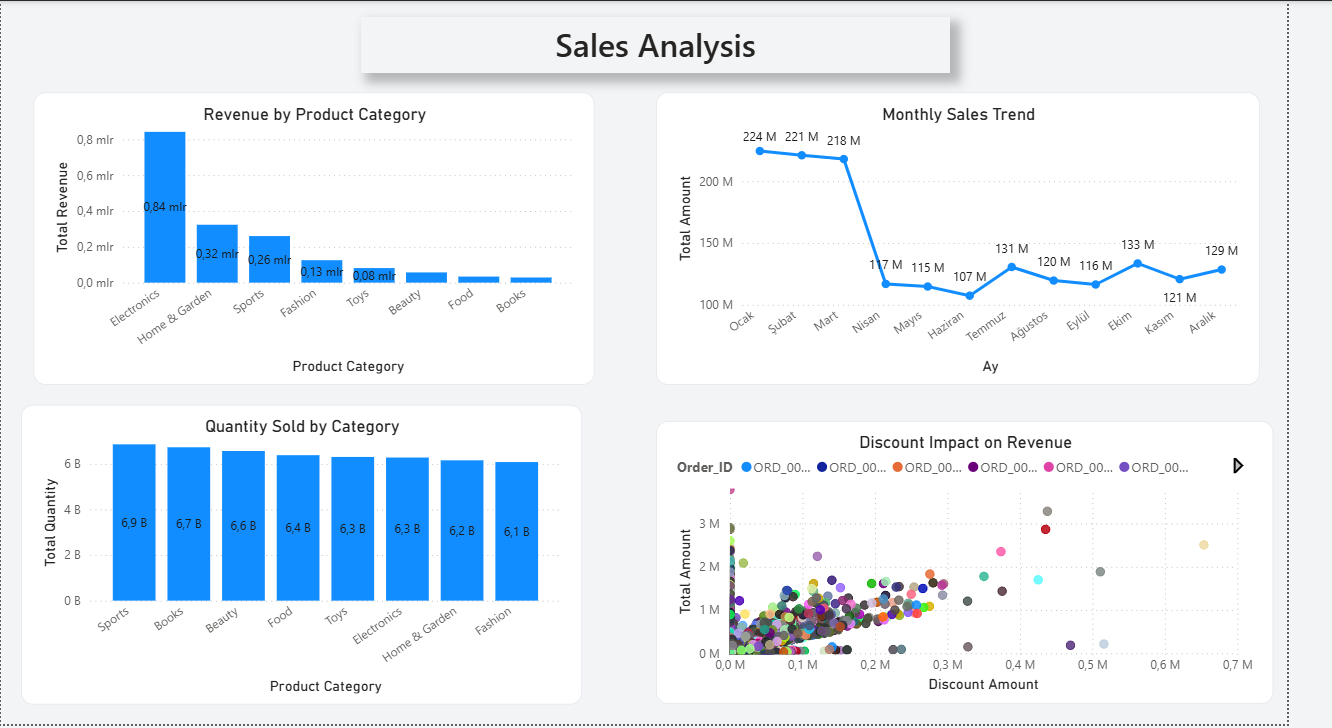

This screenshot's page, from the dashboard's own definition file:
{"tool":"powerbi","page":{"name":"Sales Analysis","canvas":[1280,720],"ordinal":1},"visuals":[{"type":"textbox","title":"E-Commerce Performance Overview","box":[358.7,16.6,586.3,55.2],"z":0},{"type":"clusteredColumnChart","title":"Revenue by Product Category","fields":{"Category":["cleaned_data.Product_Category"],"Y":["cleaned_data.Total Revenue"]},"box":[32.3,90.8,558.5,291.1],"z":1000},{"type":"lineChart","title":"Monthly Sales Trend","fields":{"Category":["cleaned_data.Date.Varyasyon.Tarih Hiyerarşisi.Ay"],"Y":["cleaned_data.Total Amount"]},"box":[651.8,90.8,600.8,291.1],"z":2000},{"type":"clusteredColumnChart","title":"Quantity Sold by Category","fields":{"Category":["cleaned_data.Product_Category"],"Y":["Sum(cleaned_data.Quantity)"]},"box":[19.9,401.8,558.5,298.6],"z":3000},{"type":"scatterChart","title":"Discount Impact on Revenue","fields":{"X":["cleaned_data.Discount_Amount"],"Series":["cleaned_data.Order_ID"],"Y":["cleaned_data.Total_Amount"]},"box":[651.8,418.5,614.8,281.3],"z":4000}]}

Visuals, with their boxes in screenshot pixels (x1, y1, x2, y2), scaled from the page's 1280x720 canvas onto the 1332x728 screenshot:
"E-Commerce Performance Overview" textbox: left=373, top=17, right=983, bottom=73
"Revenue by Product Category" clusteredColumnChart: left=34, top=92, right=615, bottom=386
"Monthly Sales Trend" lineChart: left=678, top=92, right=1303, bottom=386
"Quantity Sold by Category" clusteredColumnChart: left=21, top=406, right=602, bottom=708
"Discount Impact on Revenue" scatterChart: left=678, top=423, right=1318, bottom=708
